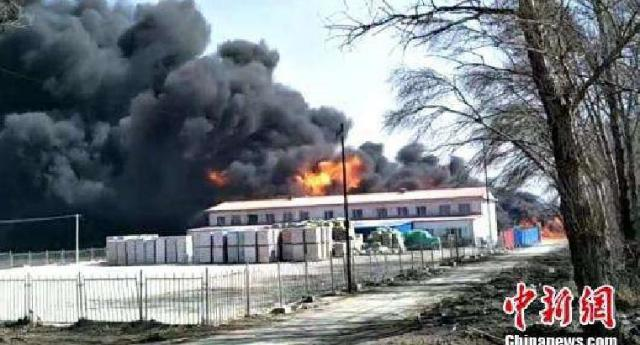fire: (296, 167, 330, 194), (322, 159, 342, 180), (344, 158, 358, 187)
